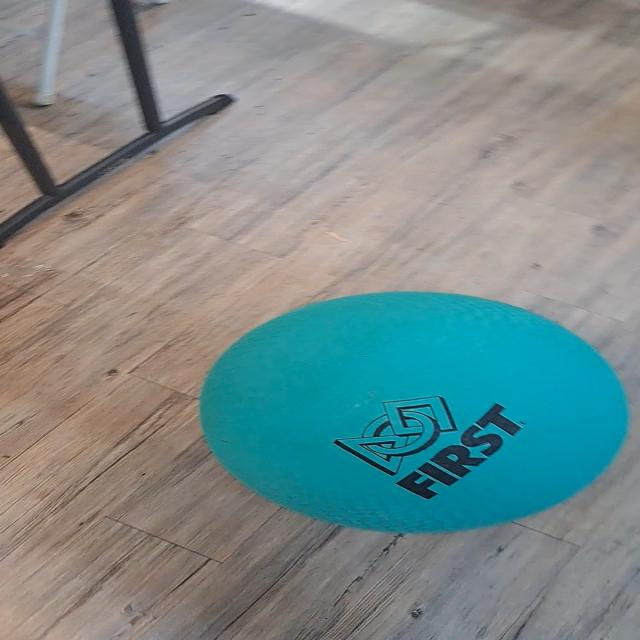ALGAE: (197, 289, 630, 535)
